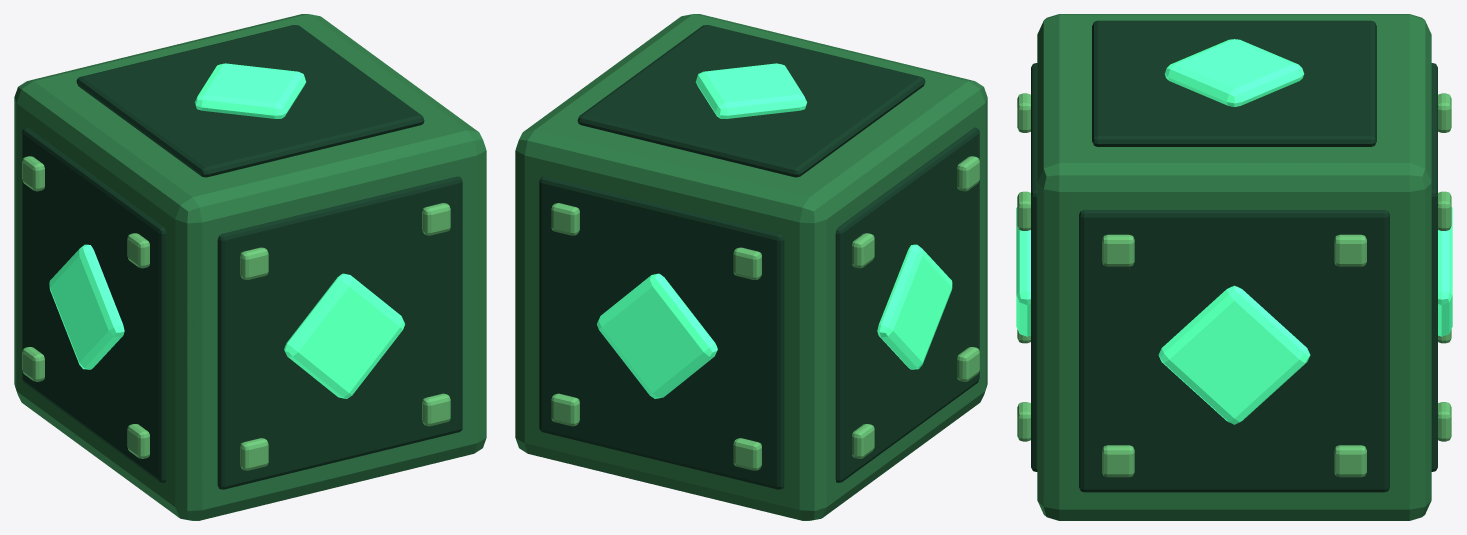
Rendered from esmeralda.glb.
3 views of the same model, side by side, from view 1: azimuth 30°, elevation 25°; view 2: azimuth 150°, elevation 25°; view 3: azimuth 270°, elevation 25° (orthographic). The views are drawn at different scales.
Visible parts, largest first — view 1: Malha_Bloco_Esmeralda; view 2: Malha_Bloco_Esmeralda; view 3: Malha_Bloco_Esmeralda.
Part boxes in pixels (x1,y1,x2,y2): Malha_Bloco_Esmeralda: (14,14,486,520); Malha_Bloco_Esmeralda: (515,14,987,520); Malha_Bloco_Esmeralda: (1016,14,1452,520).
Size of the model in its own units: 1.99 by 1.92 by 1.99.
